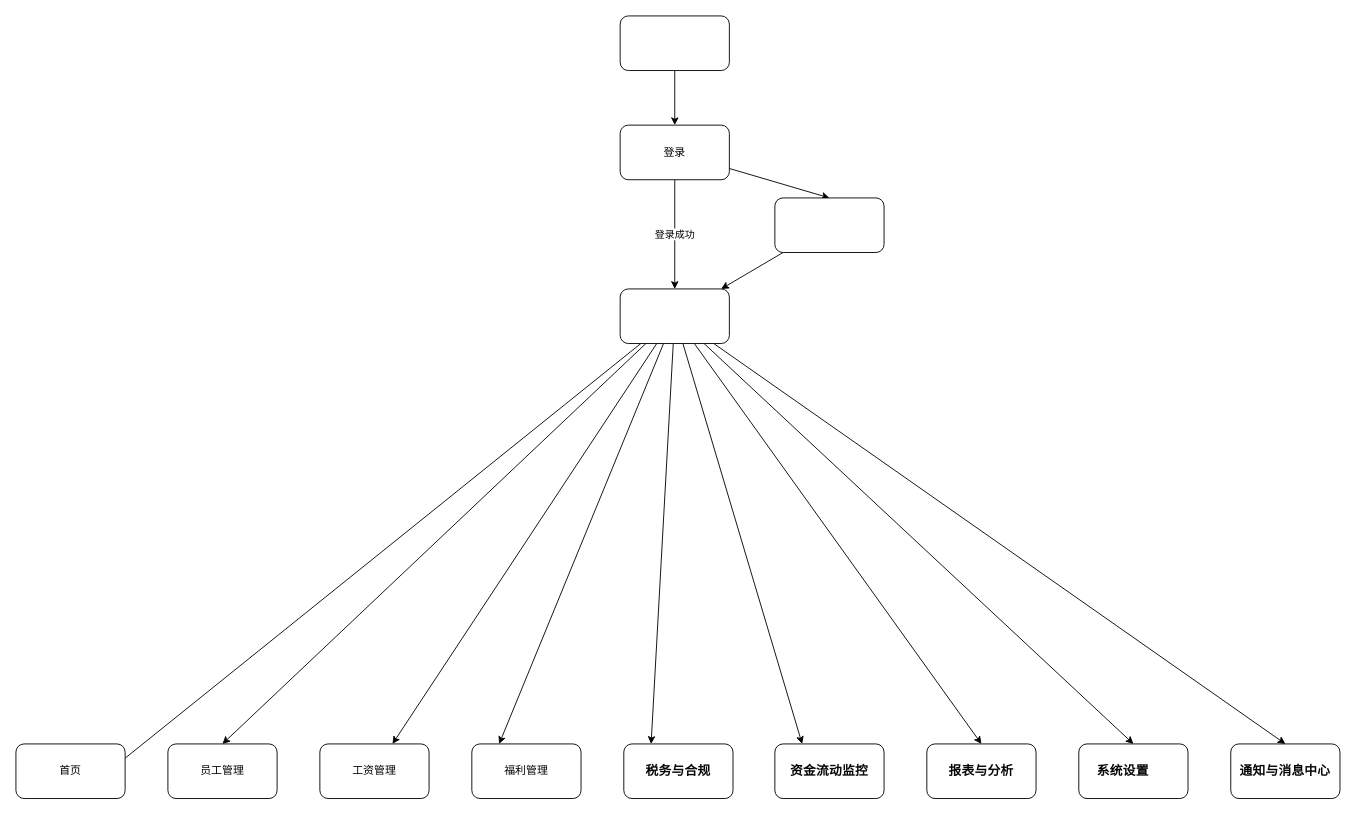
This 1356x821 diagram has some shape labels left out. Each missing label, with the box of its shape:
企业工资管理系统: (619, 15, 729, 71)
工资管理界面: (619, 288, 729, 344)
注册: (774, 197, 884, 253)
